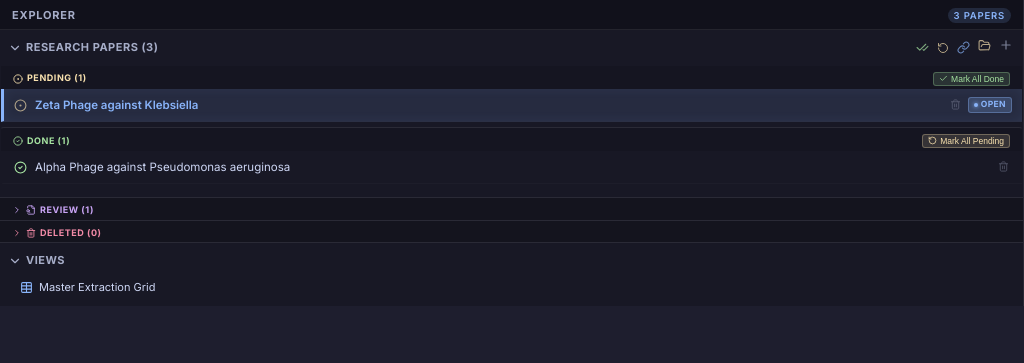
Test: LeftExplorerPanel Three-Tier (Pending, Done, Review) Sorting Suite › toggles Review section expansion when clicking the Review header
Expected: the text "Beta Phage against Staphylococcus aureus" is not shown
Note: Click Review header to expand
Step 1. Click the text "Review (1)" → (53, 210), box [12,204,94,217]
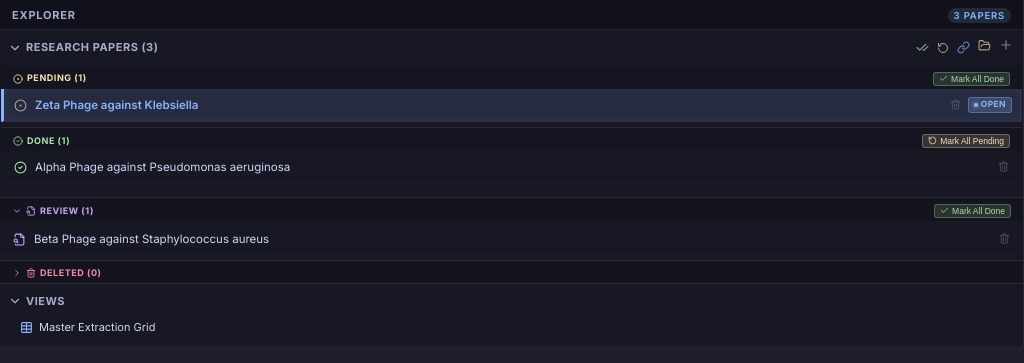
Result: the text "Beta Phage against Staphylococcus aureus" is shown at [34,232,269,246]
